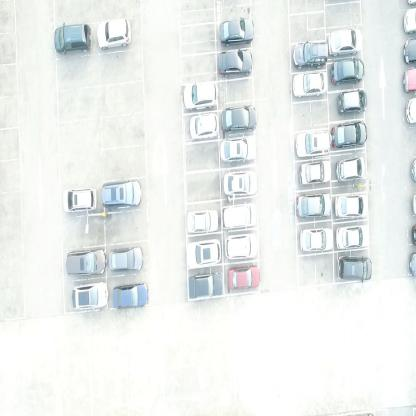car: (101, 178, 142, 210), (54, 22, 92, 56), (65, 245, 105, 277), (96, 17, 132, 50), (70, 280, 109, 310), (220, 133, 256, 164), (295, 128, 332, 158), (221, 104, 258, 134), (112, 280, 149, 310), (183, 80, 218, 111), (187, 237, 221, 268), (332, 118, 367, 148), (219, 17, 254, 47), (292, 70, 328, 99), (217, 48, 252, 77), (108, 245, 144, 273), (295, 191, 331, 218), (223, 169, 259, 196), (222, 201, 258, 228), (330, 58, 364, 86), (328, 28, 362, 56), (292, 42, 327, 69), (188, 272, 223, 299), (62, 186, 97, 213), (336, 223, 370, 250), (225, 233, 258, 260), (338, 255, 372, 281), (299, 226, 333, 252), (335, 192, 368, 218), (299, 159, 331, 185), (336, 154, 365, 182), (228, 264, 260, 289), (187, 208, 219, 233), (190, 112, 218, 140), (336, 88, 366, 114), (402, 5, 416, 35), (402, 36, 416, 65), (403, 65, 415, 91), (405, 97, 415, 126)
